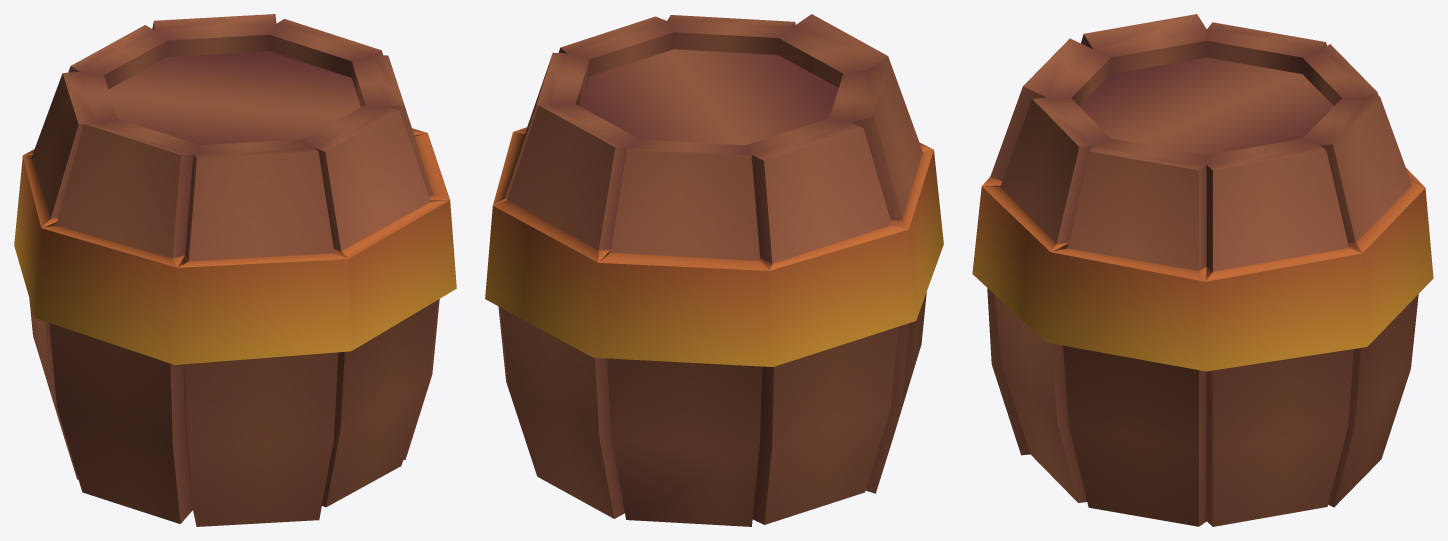
File: Barrel2.fbx
3 views of the same model, side by side, from view 1: azimuth 30°, elevation 25°; view 2: azimuth 150°, elevation 25°; view 3: azimuth 270°, elevation 25° (orthographic). The views are drawn at different scales.
Parts seen in each view (by area): view 1: Barrel02; view 2: Barrel02; view 3: Barrel02.
Part boxes in pixels (bbox=[...]): Barrel02: bbox=[14, 14, 456, 526]; Barrel02: bbox=[485, 14, 943, 526]; Barrel02: bbox=[972, 14, 1433, 526].
Bounding box in the file's own units: 130 × 114 × 129.
1 material, 1 textured.
